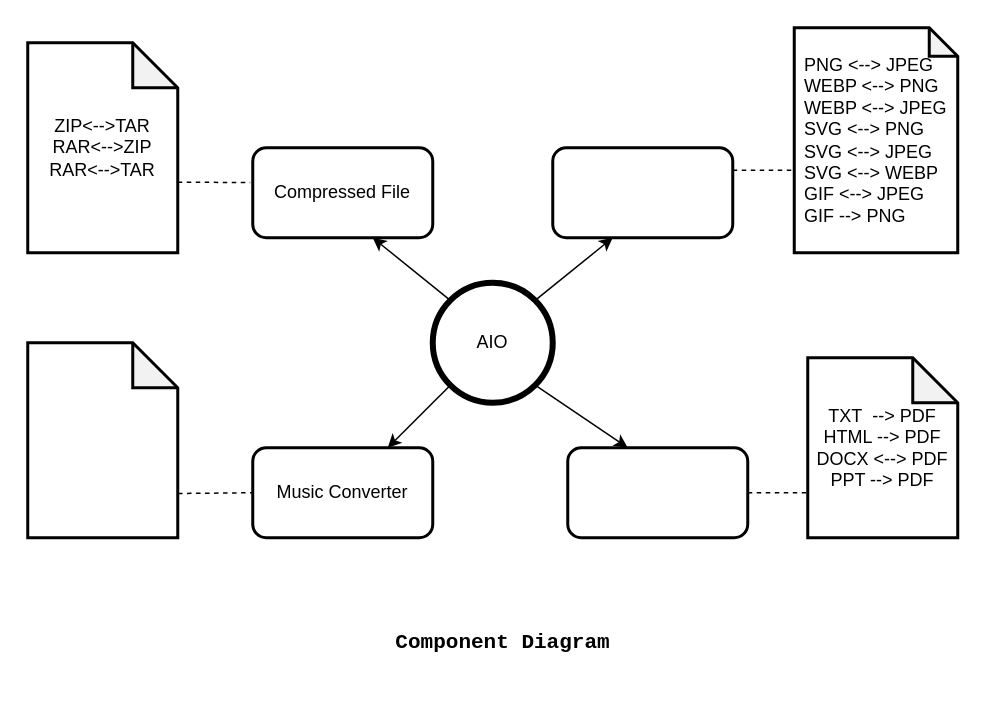
The diagram is 984 pixels wide and 713 high, and some of its shapes have lost their labels. The shapes that lost their labels are listed below. From the top down, each one's centre as x and y in pixels, then its label:
At (642,192): "Image Converter".
At (102,439): "MP3 <--> WAV".
At (657,492): "Document Converter".
